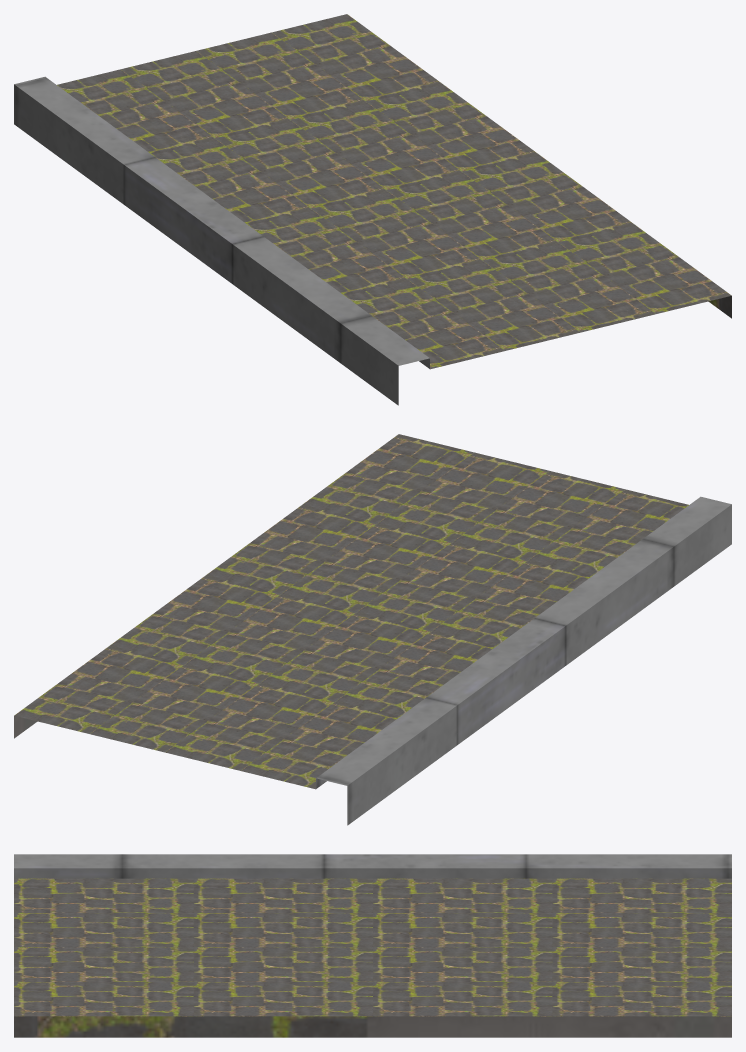
File: SideWalk.fbx
3 renders of one model, top to bottom at view 1: azimuth 30°, elevation 25°; view 2: azimuth 150°, elevation 25°; view 3: azimuth 270°, elevation 25°, orthographic. The views are drawn at different scales.
Parts seen in each view (by area): view 1: SideRoad; view 2: SideRoad; view 3: SideRoad.
Boxes of the visible parts, x1,y1,x2,y2 form: SideRoad: (14,14,731,405); SideRoad: (14,434,731,825); SideRoad: (14,854,731,1037).
Size of the model in its own units: 185 by 21.22 by 370.
